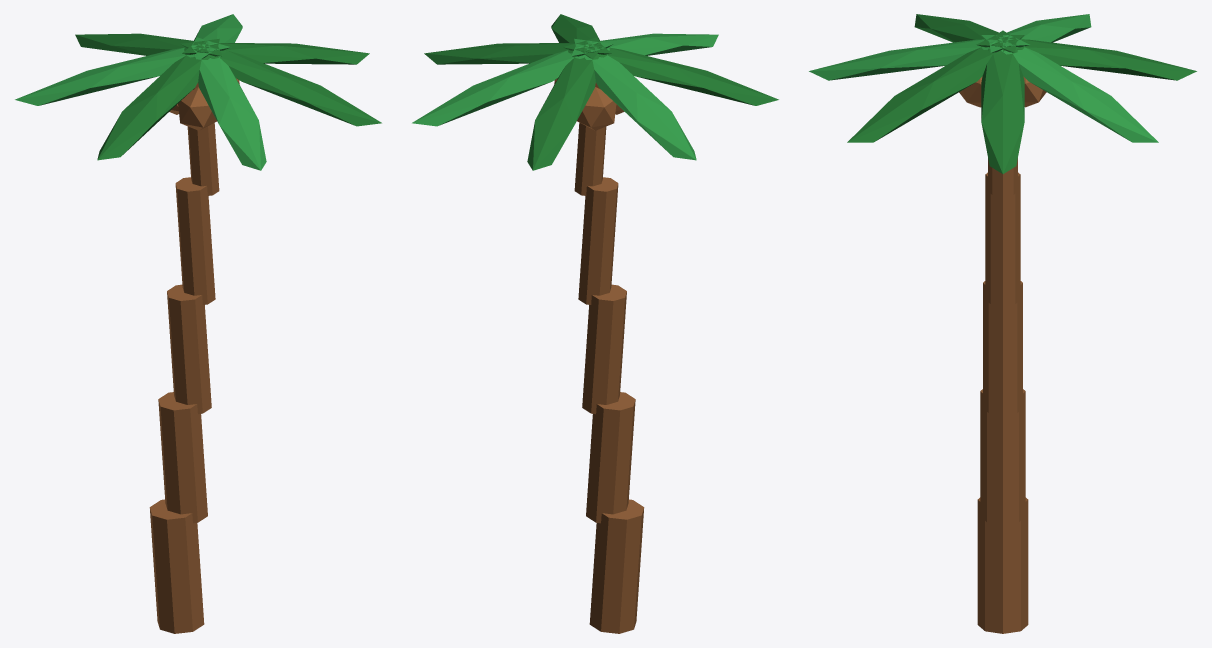
Rendered from SM_PalmTree_A.glb.
3 renders of one model, left to right at view 1: azimuth 30°, elevation 25°; view 2: azimuth 150°, elevation 25°; view 3: azimuth 270°, elevation 25°, orthographic. The views are drawn at different scales.
Visible parts, largest first — view 1: SM_PalmTree_A; view 2: SM_PalmTree_A; view 3: SM_PalmTree_A.
Part boxes in pixels (x1,y1,x2,y2): SM_PalmTree_A: (15,14,381,633); SM_PalmTree_A: (412,14,778,633); SM_PalmTree_A: (809,14,1196,633).
Bounding box in the file's own units: 5.09 × 8.85 × 5.22.
